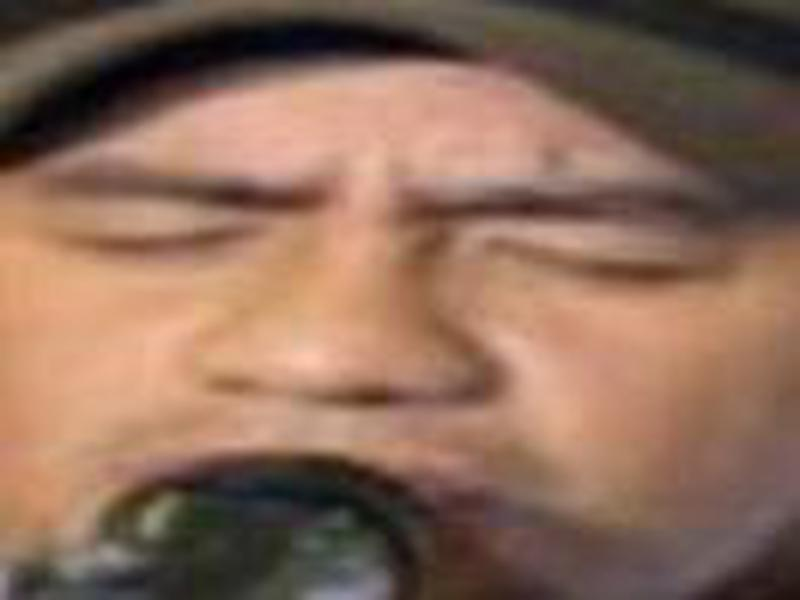without_mask: (2, 127, 800, 589)
